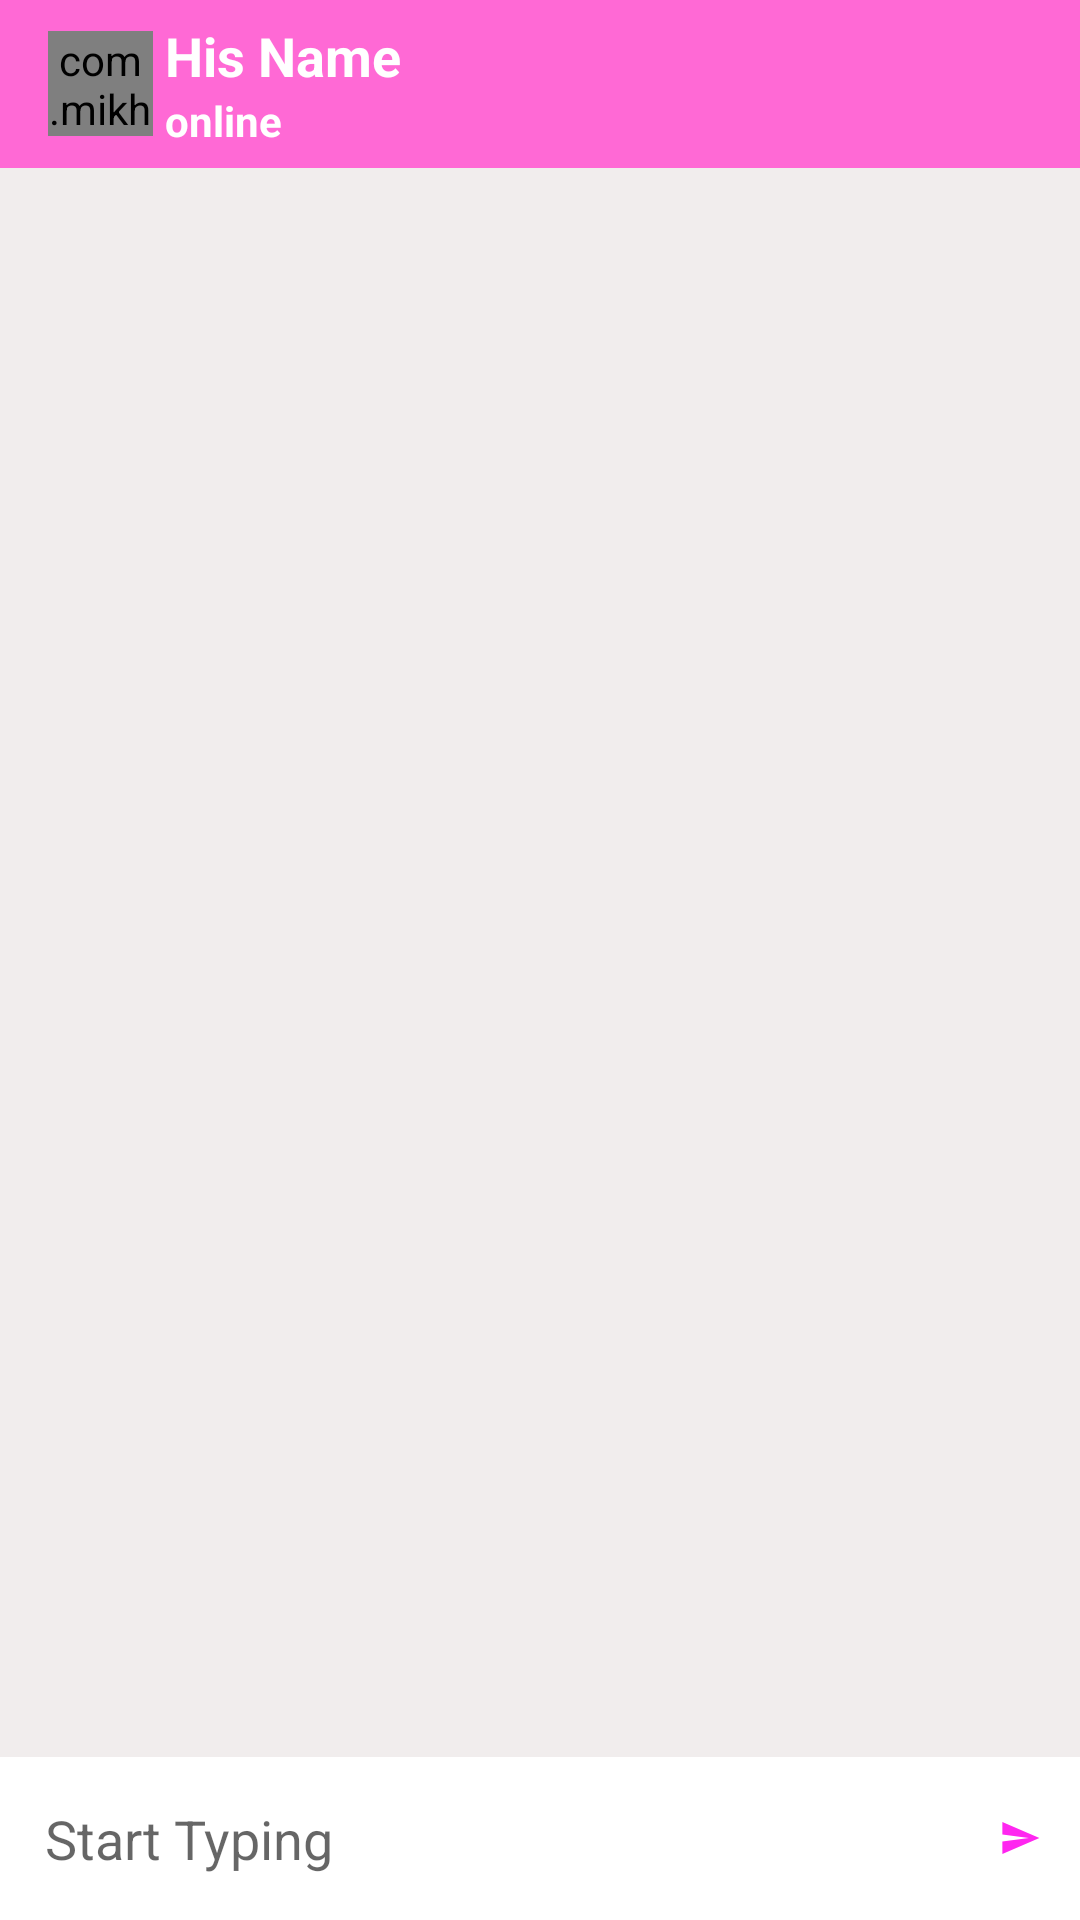

Screen size 1080×1920. Icon name, then its center in pixels as [x,y]:
send: [1020,1838]
